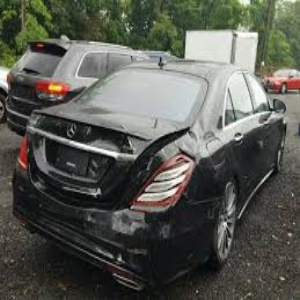bumper_scratch: (78, 204, 174, 270)
